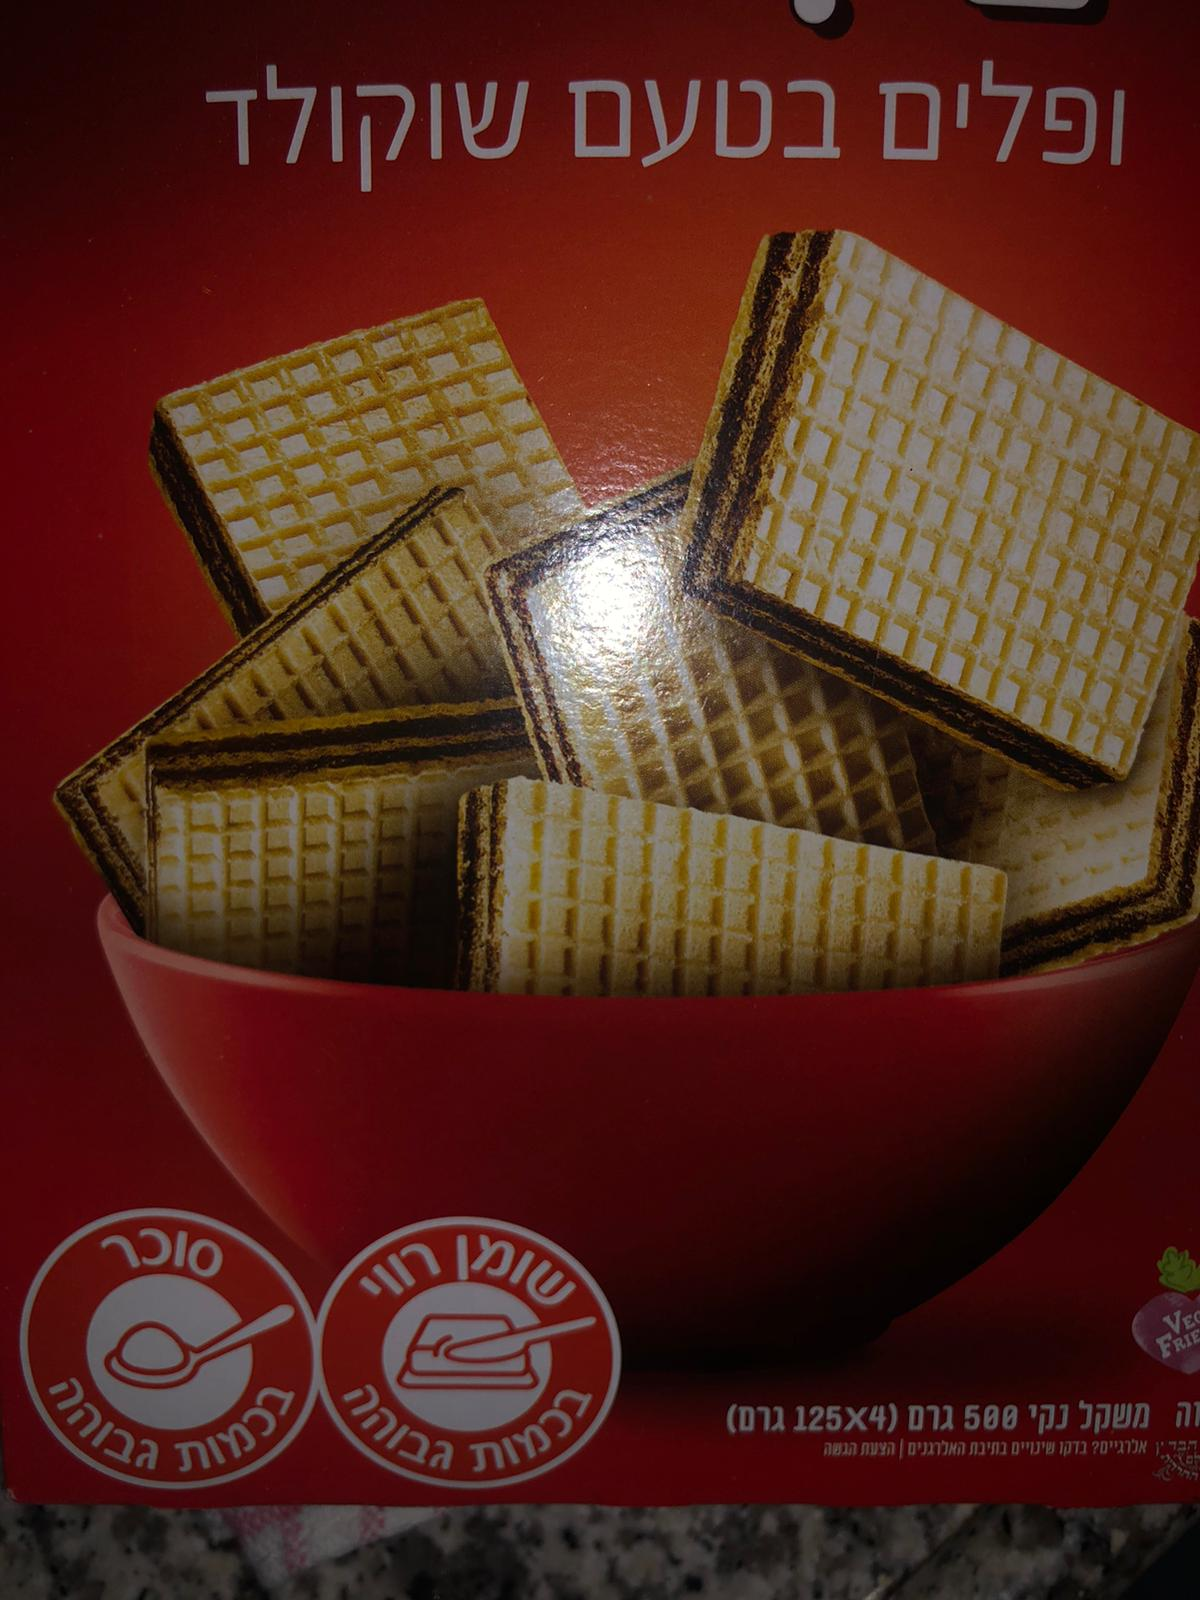fat: (313, 1216, 624, 1490)
sugar: (16, 1204, 319, 1490)
